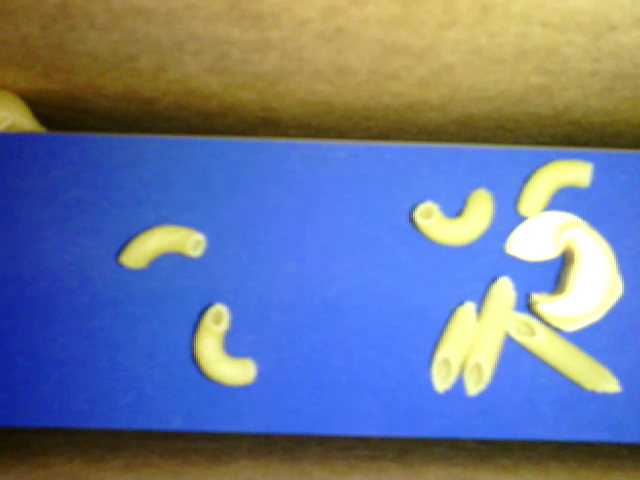elbow: (191, 300, 258, 390), (515, 157, 596, 217), (416, 188, 495, 245), (116, 220, 206, 269), (101, 212, 103, 213)
penne: (501, 303, 624, 394), (459, 270, 517, 398), (427, 294, 474, 394), (459, 270, 461, 272)
shell: (1, 85, 50, 134)
tortellini: (504, 212, 625, 333)
